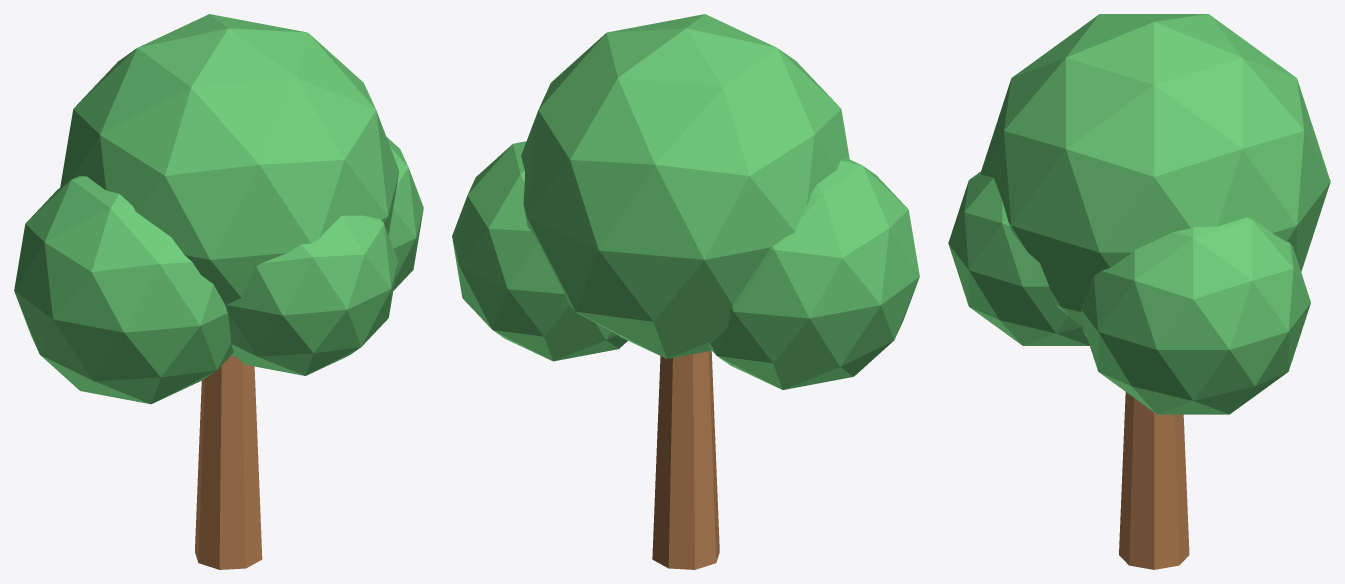
File: tree.glb
3 renders of one model, left to right at view 1: azimuth 30°, elevation 25°; view 2: azimuth 150°, elevation 25°; view 3: azimuth 270°, elevation 25°, orthographic.
Parts seen in each view (by area): view 1: tree; view 2: tree; view 3: tree.
Boxes of the visible parts, <box> form: tree: <box>14,14,423,569</box>; tree: <box>452,14,919,569</box>; tree: <box>948,14,1330,569</box>.
Size of the model in its own units: 2.39 by 3 by 1.95.
